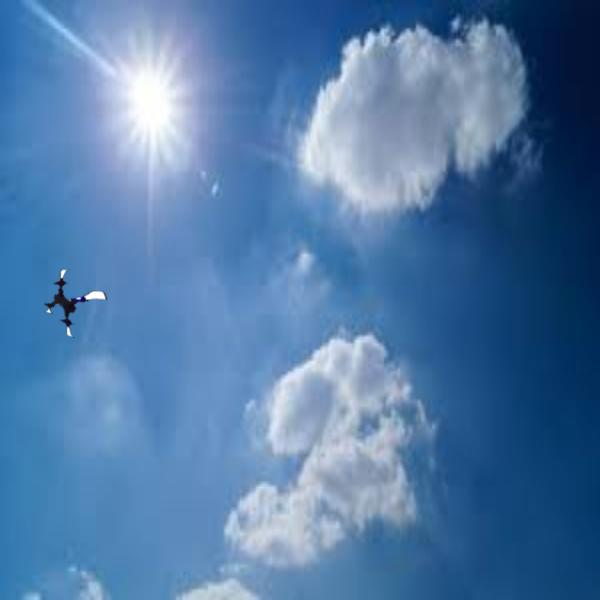drone: (42, 270, 115, 343)
